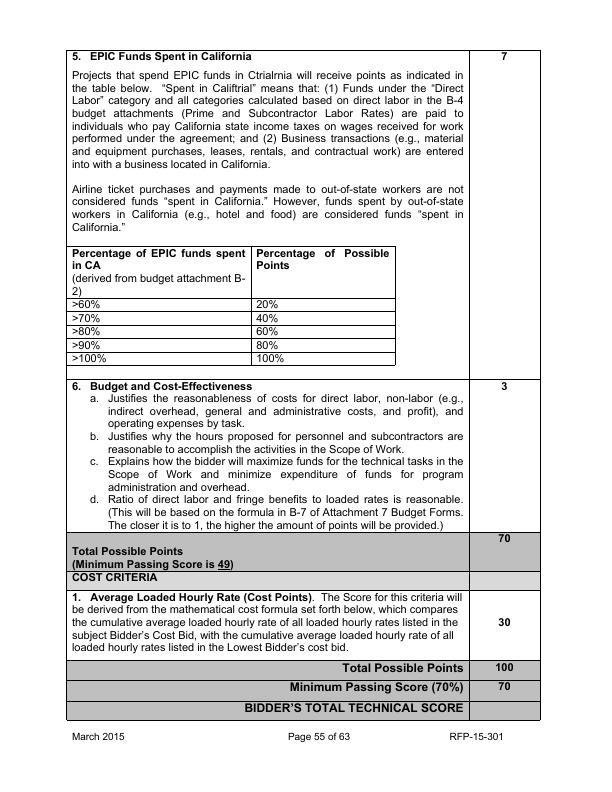table: (62, 46, 545, 726)
